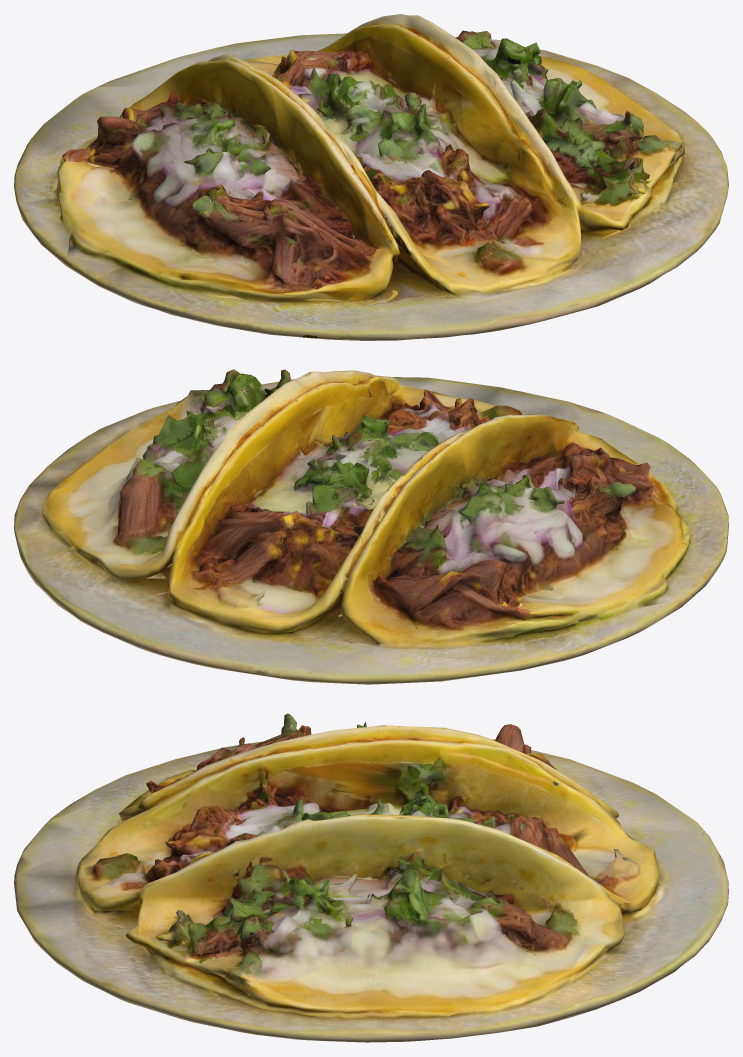
The model's file is taco.glb.
3 renders of one model, top to bottom at view 1: azimuth 30°, elevation 25°; view 2: azimuth 150°, elevation 25°; view 3: azimuth 270°, elevation 25°, orthographic.
Size of the model in its own units: 0.2395 by 0.046 by 0.2399.
1 material, 1 textured.
